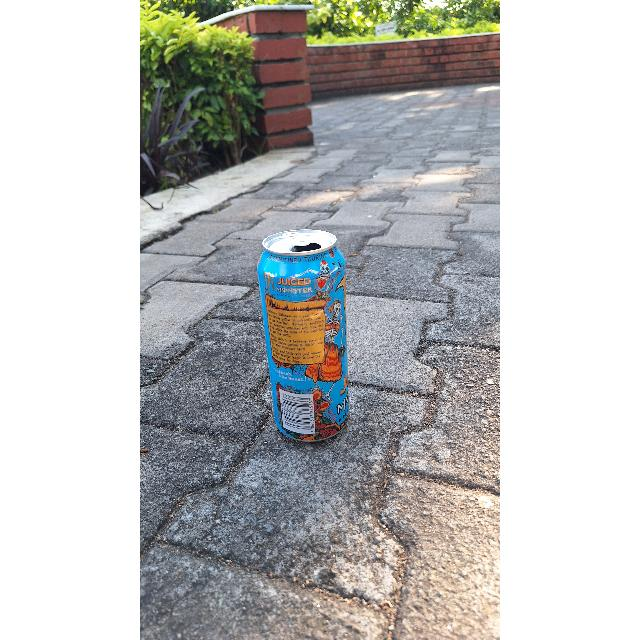Monster Mango Loco: (263, 222, 351, 446)
